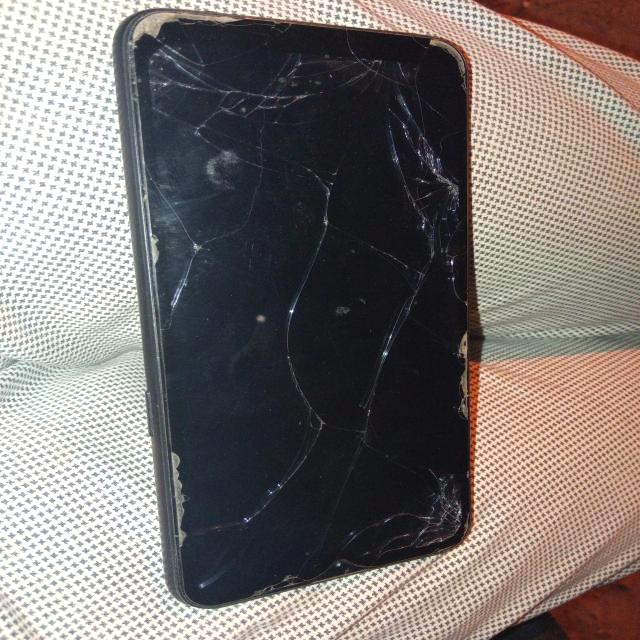phone: (84, 20, 570, 598)
